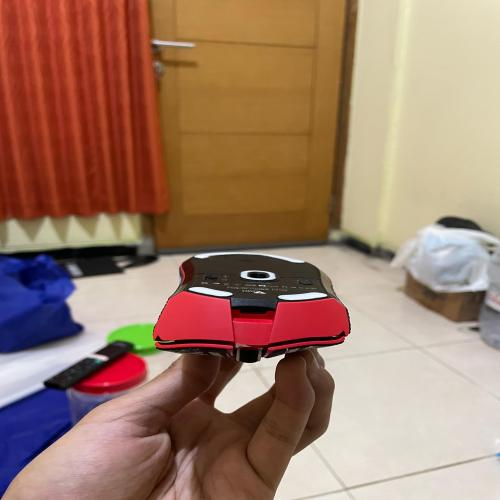Mouse: (139, 240, 374, 372)
